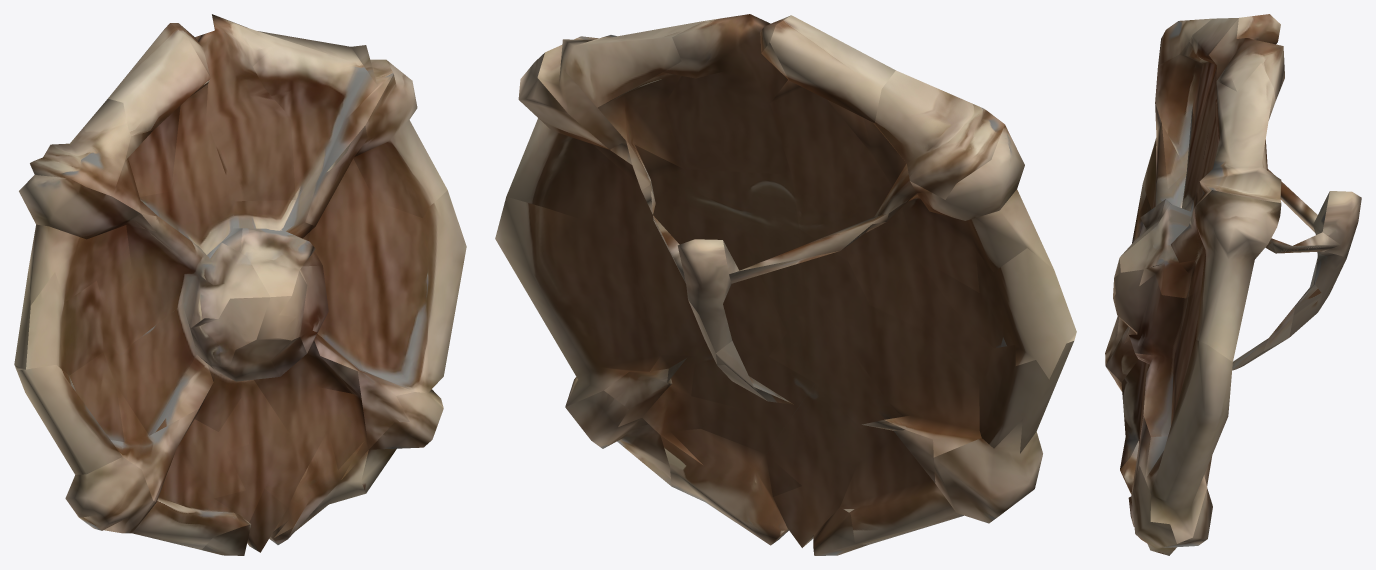
The model's file is Shield.glb.
3 renders of one model, left to right at view 1: azimuth 30°, elevation 25°; view 2: azimuth 150°, elevation 25°; view 3: azimuth 270°, elevation 25°, orthographic. The views are drawn at different scales.
Parts seen in each view (by area): view 1: Shield; view 2: Shield; view 3: Shield.
Boxes of the visible parts, x1,y1,x2,y2 form: Shield: (14, 14, 466, 555); Shield: (495, 14, 1076, 555); Shield: (1105, 14, 1361, 555).
Bounding box in the file's own units: 1 × 1.01 × 0.4666.
Materials: 1 (1 with a texture image).
